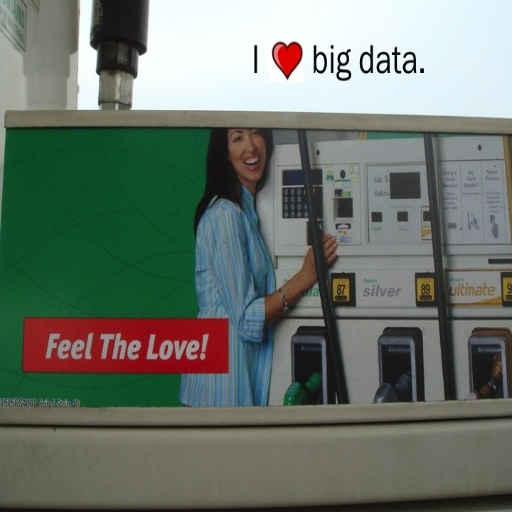hand: (201, 200, 339, 347)
